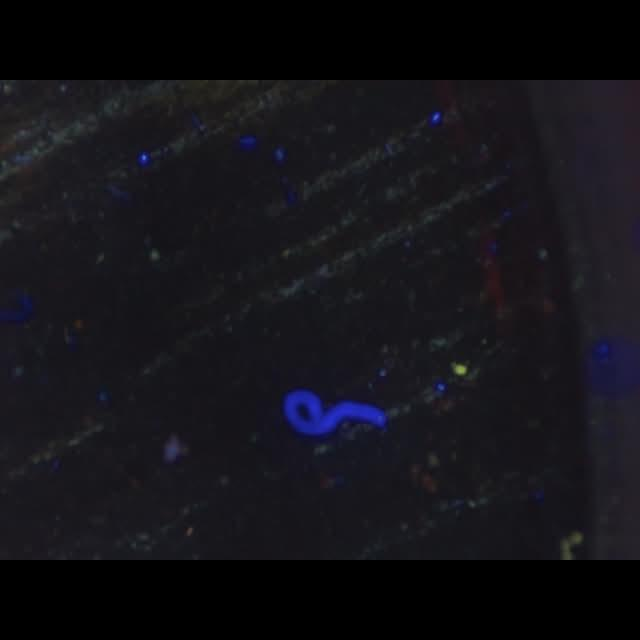microbeads: (452, 362, 468, 376)
